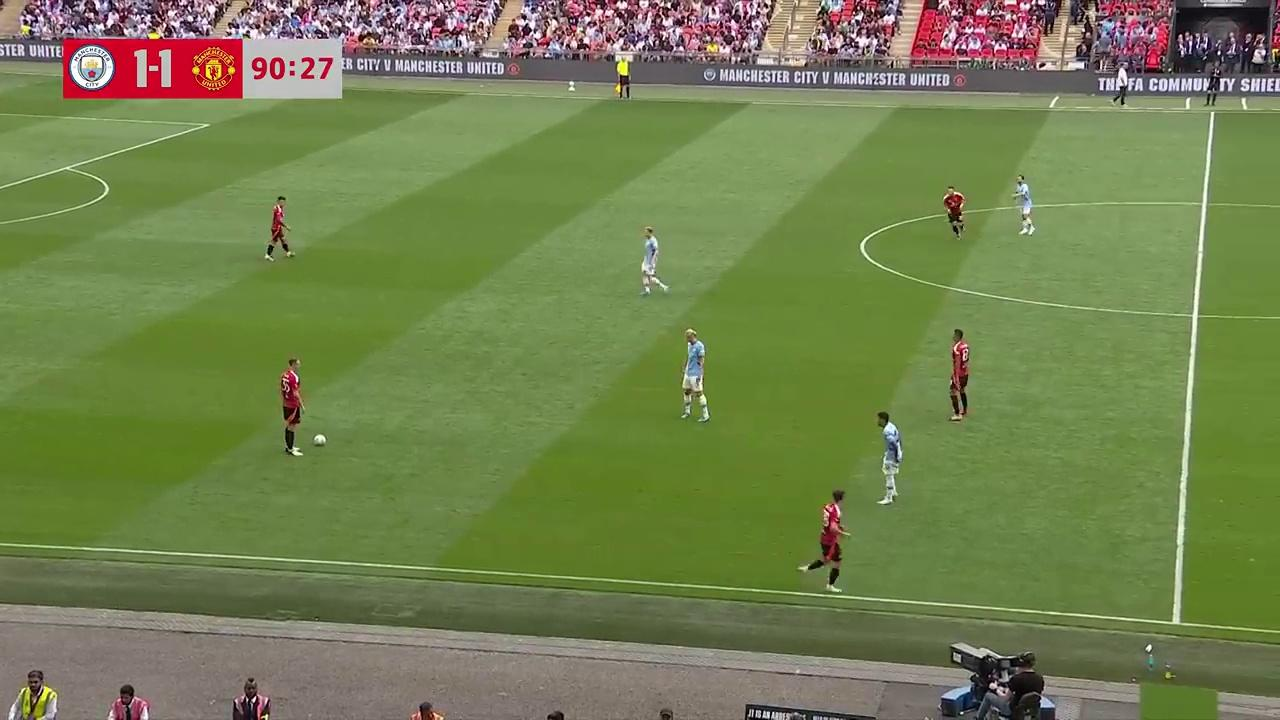ball: (312, 431, 327, 446)
player: (798, 490, 851, 592), (278, 357, 306, 456), (680, 328, 709, 422), (876, 410, 903, 505), (948, 328, 970, 423), (263, 195, 294, 262), (640, 227, 668, 296), (1013, 175, 1035, 235), (943, 186, 965, 239)
referee: (614, 55, 631, 100)
